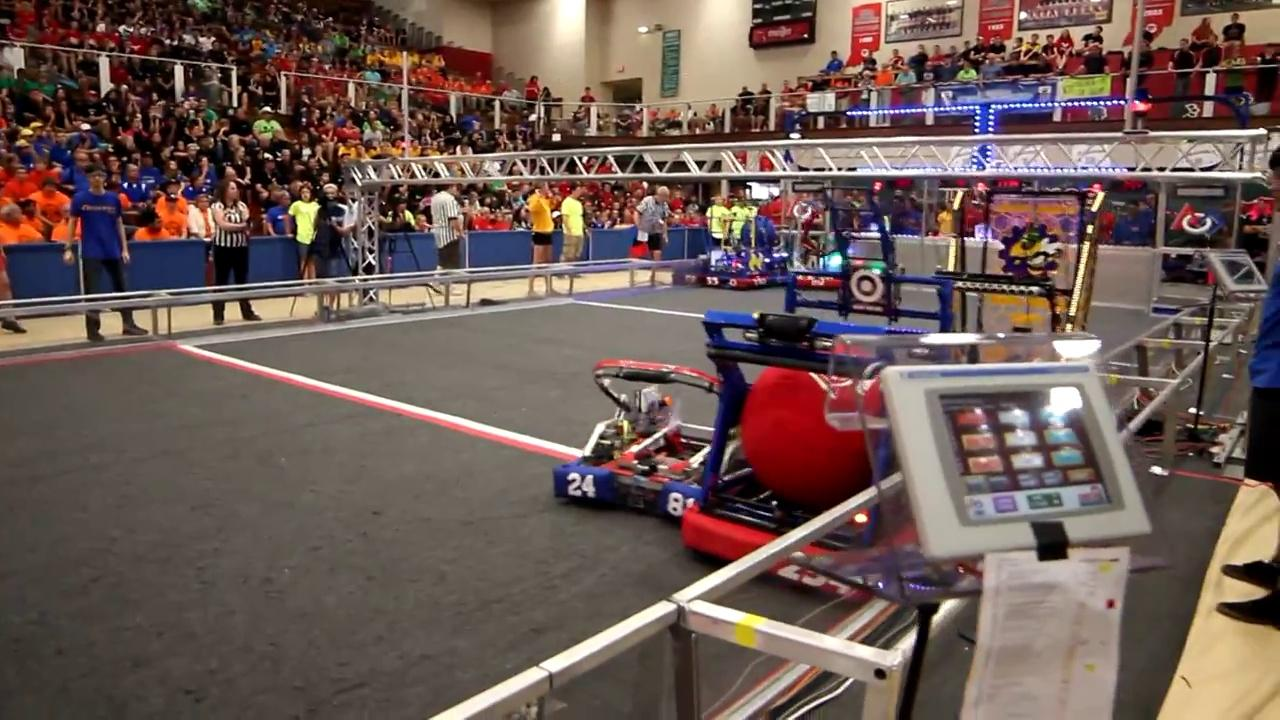robot: (678, 305, 894, 614), (552, 347, 738, 525)
